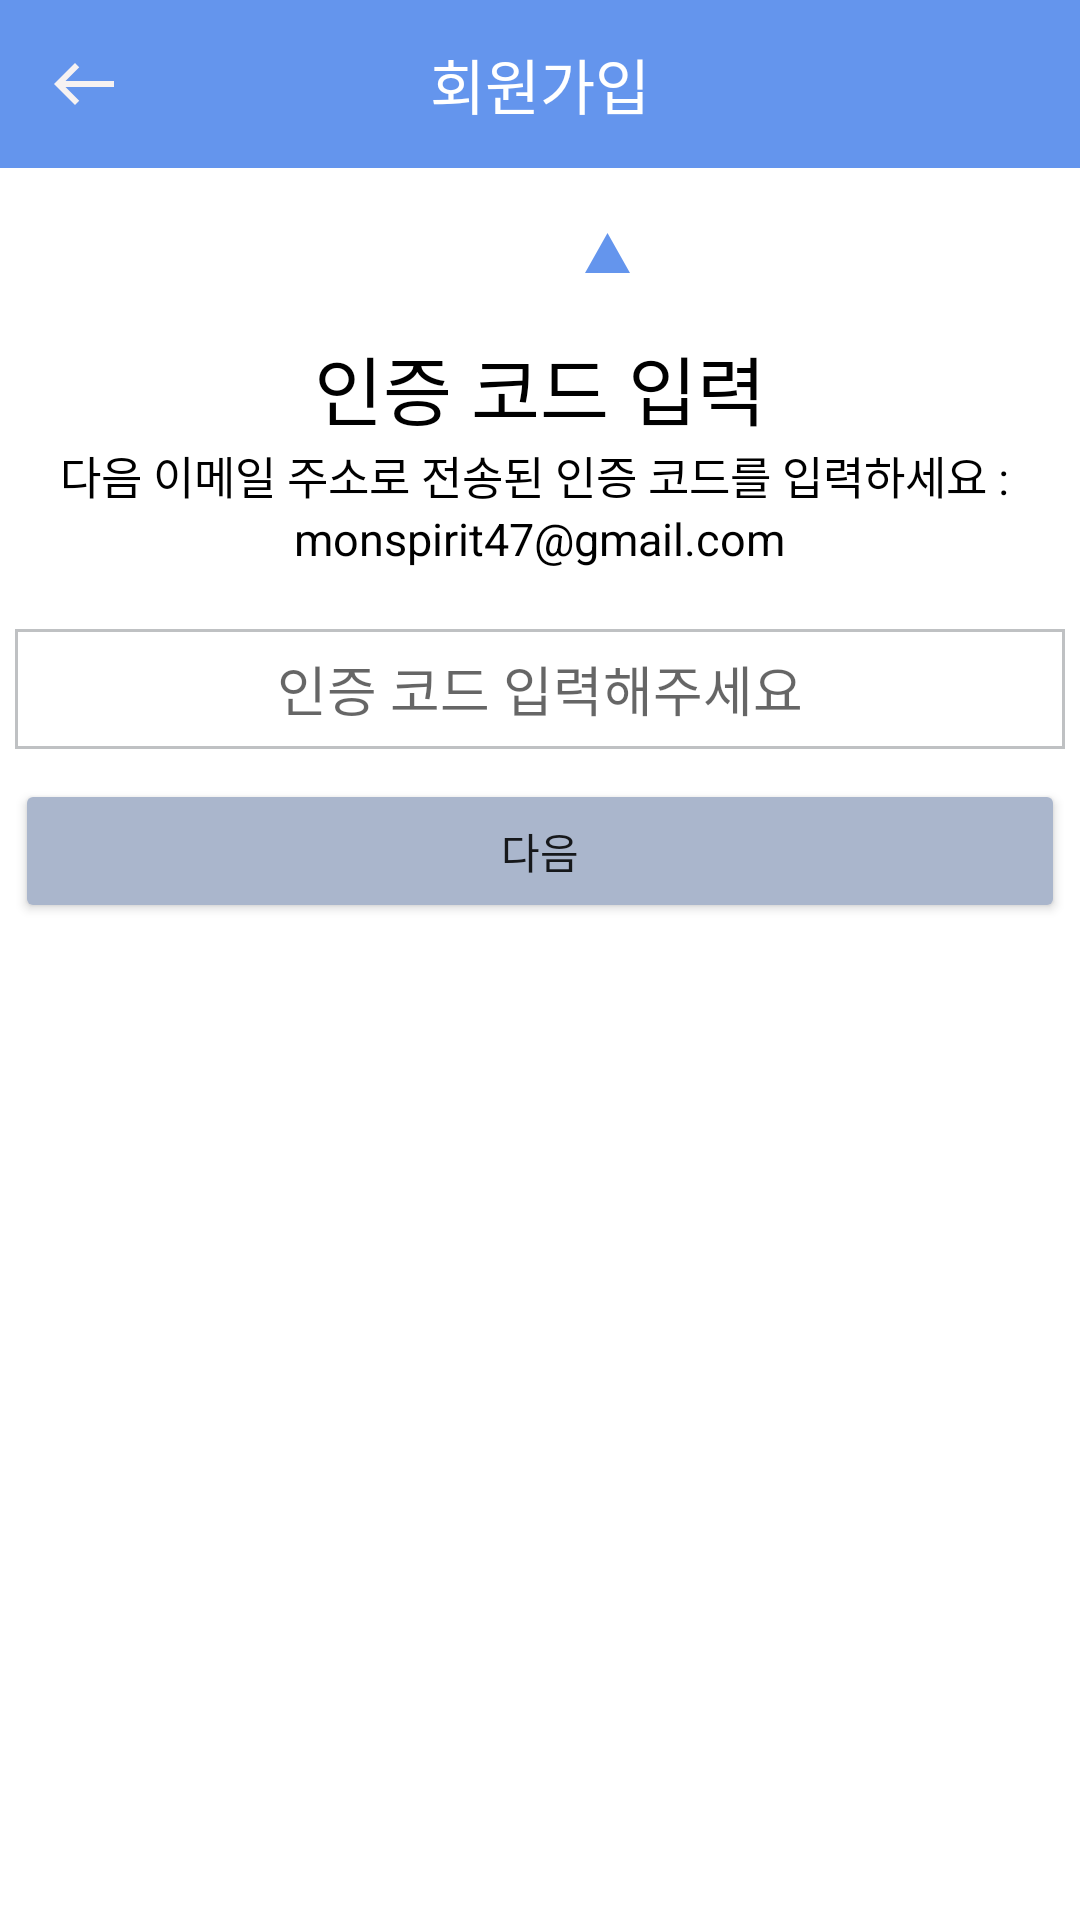

Where to tap for icons on this 1080px x 1920px app screen, as (x=x, y=y):
west: (x=84, y=84)
